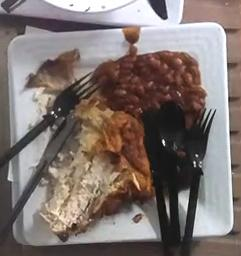beans: (94, 51, 206, 118)
chicken: (40, 104, 153, 241)
